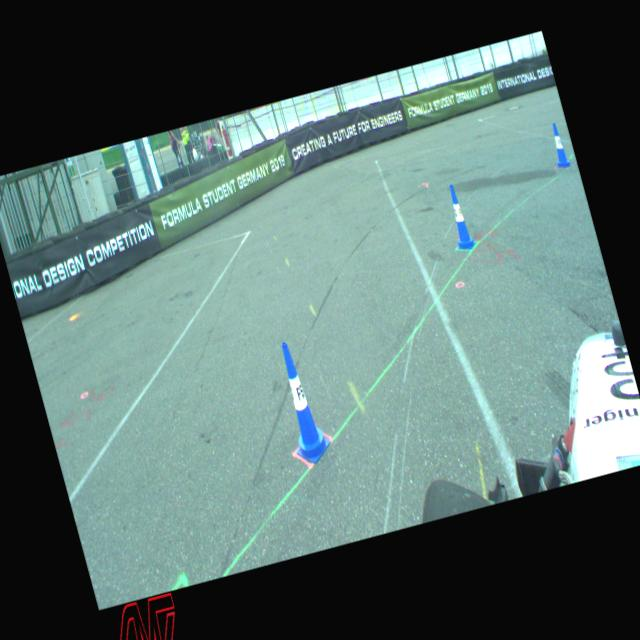blue_cone: (268, 336, 334, 466), (441, 181, 477, 251), (545, 120, 571, 168)
